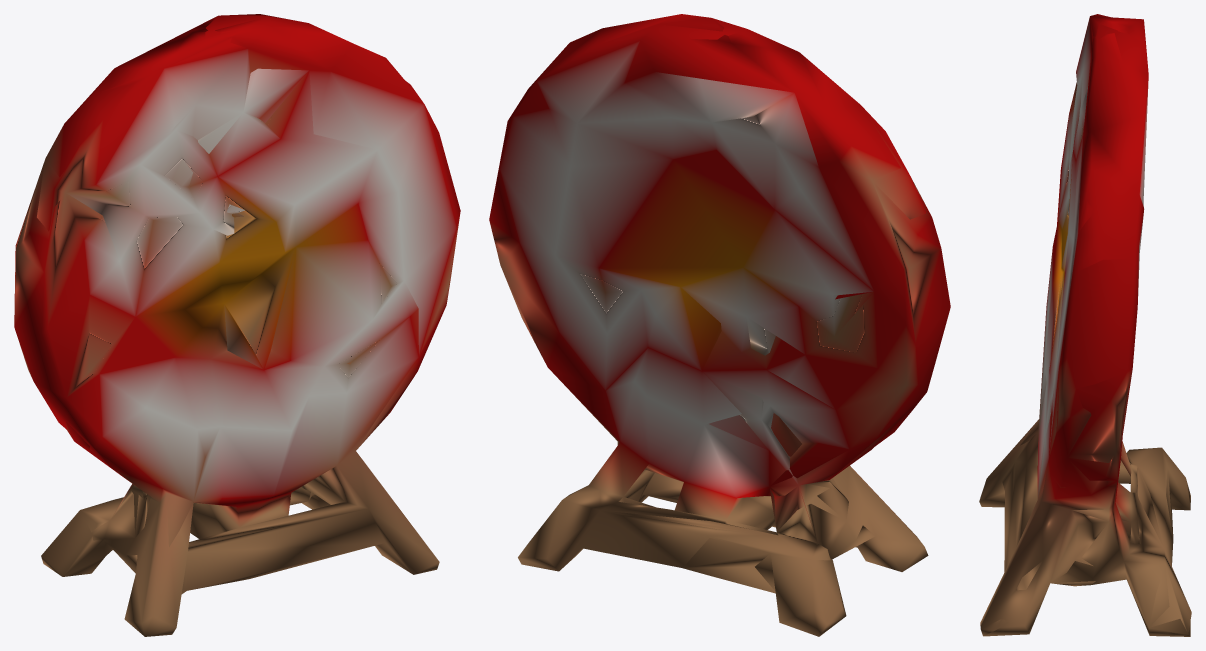
The model's file is gen3d-bullseye-target-lod1.glb.
The picture shows the model from 3 angles, left to right: view 1: azimuth 30°, elevation 25°; view 2: azimuth 150°, elevation 25°; view 3: azimuth 270°, elevation 25°; orthographic projection. The views are drawn at different scales.
Visible parts, largest first — view 1: part_0; view 2: part_0; view 3: part_0.
Boxes of the visible parts, <box> form: part_0: <box>14,14,460,636</box>; part_0: <box>489,14,950,636</box>; part_0: <box>979,14,1191,636</box>.
Size of the model in its own units: 0.8214 by 0.9936 by 0.3615.
